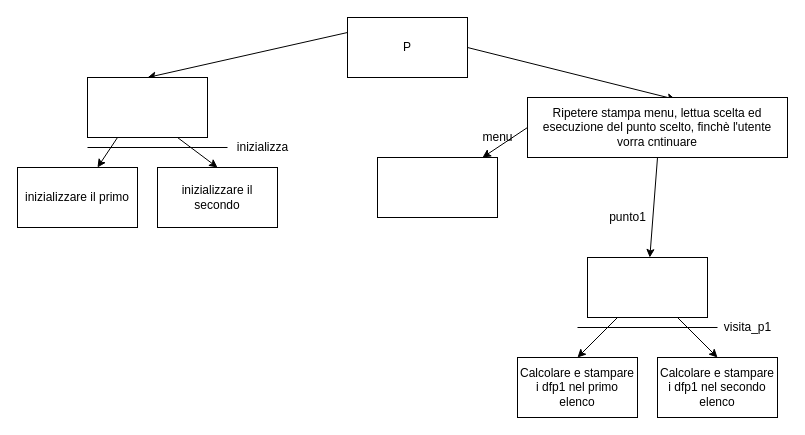
The diagram is 805 pixels wide and 435 high, and some of its shapes have lost their labels. Here are the shapes that lost their labels. From the top down, the centre of each, then its label:
At (147,107): "Inizializzare 2 elenchi di immobili".
At (437,187): "stama menù e lettura scelta".
At (647,287): "se scelta vale 1, calcolare per poi stampare in entrambi gli elenchi".
